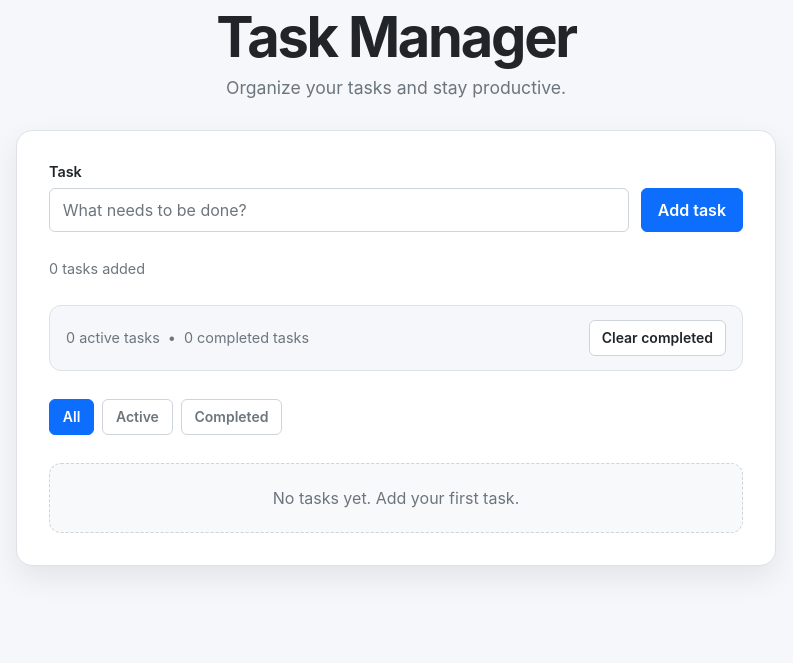
it: App › clears all completed tasks while keeping active tasks
Type "Active task" into the field labelled "Task" at (339, 210), box [49, 188, 629, 232]
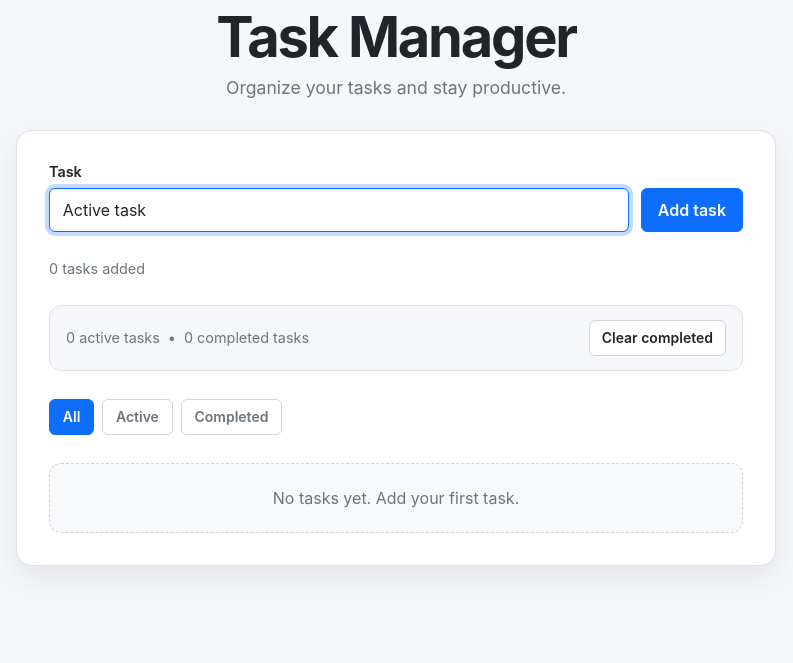
Click the button "Add task" at (692, 210), box [641, 188, 743, 232]
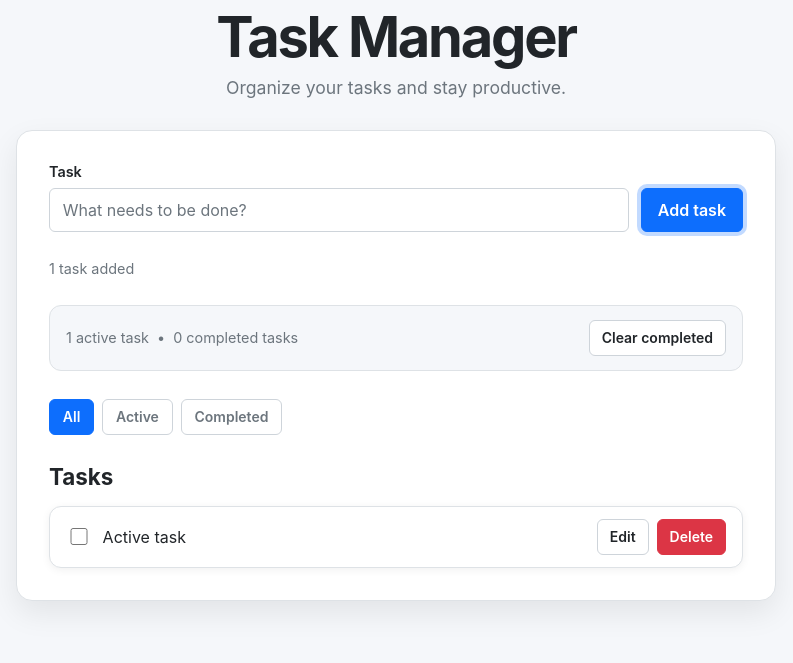
Type "Completed task" into the field labelled "Task" at (339, 210), box [49, 188, 629, 232]
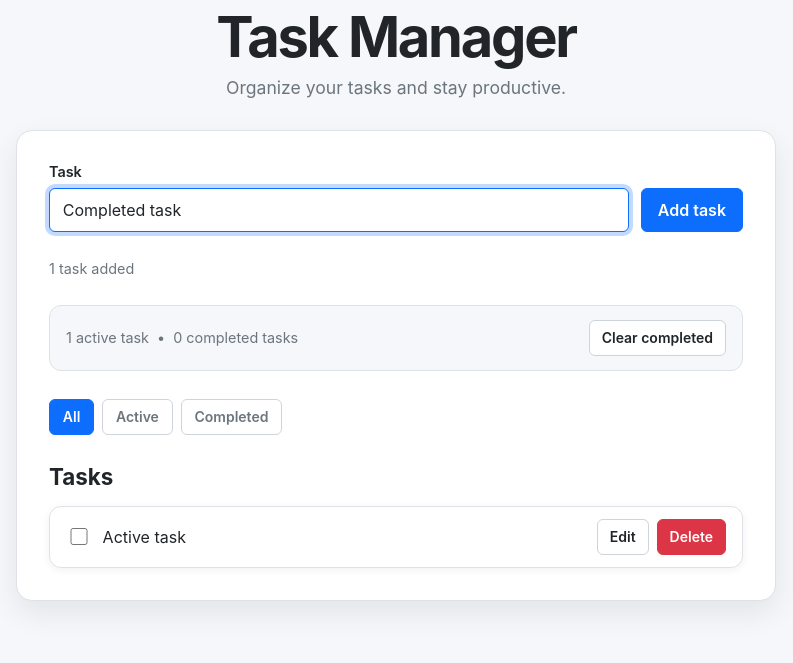
Click the button "Add task" at (692, 210), box [641, 188, 743, 232]
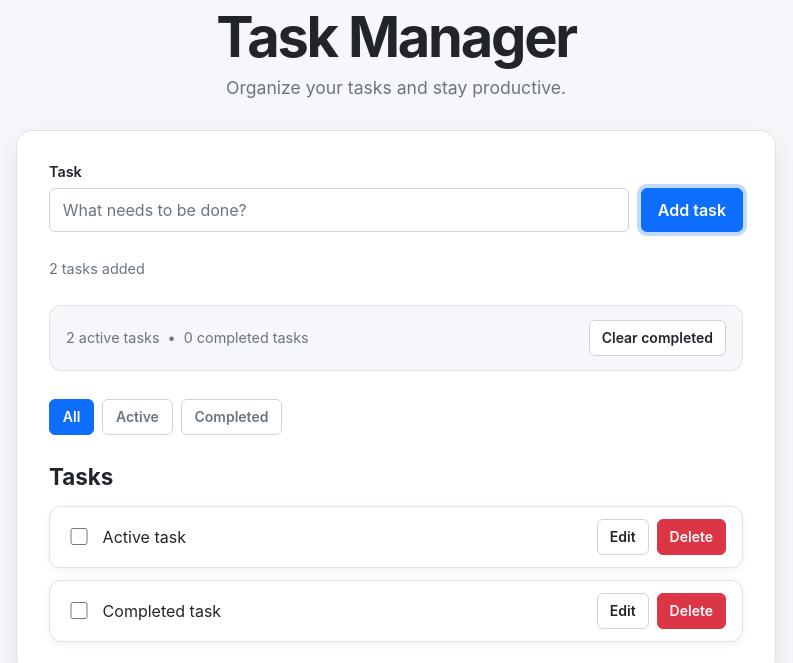
Click the checkbox labelled "Completed task" at (79, 611), box [70, 602, 88, 619]
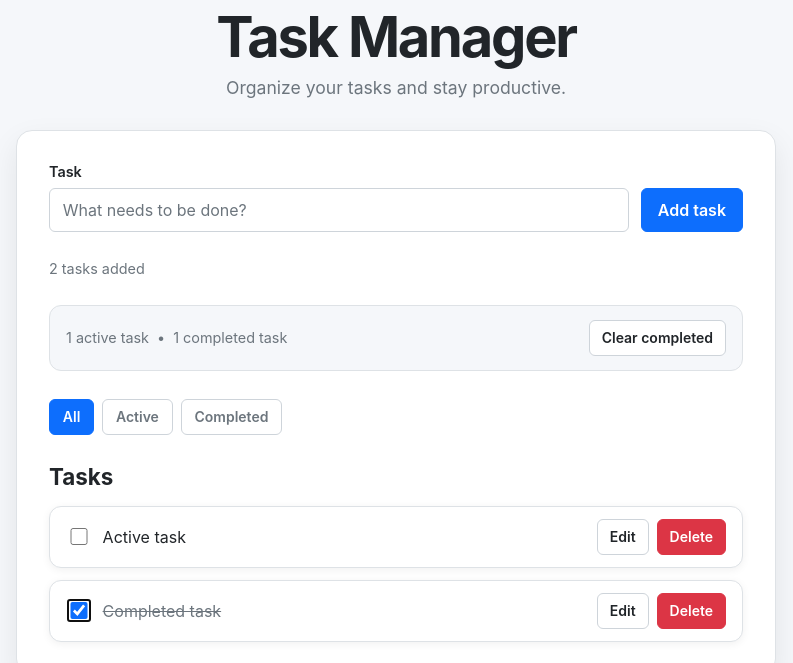
Check: the text "1 active task" is shown, box [66, 329, 149, 346]
Check: the text "1 completed task" is shown, box [173, 329, 287, 346]
Click the button "Clear completed" at (657, 338), box [589, 320, 726, 356]
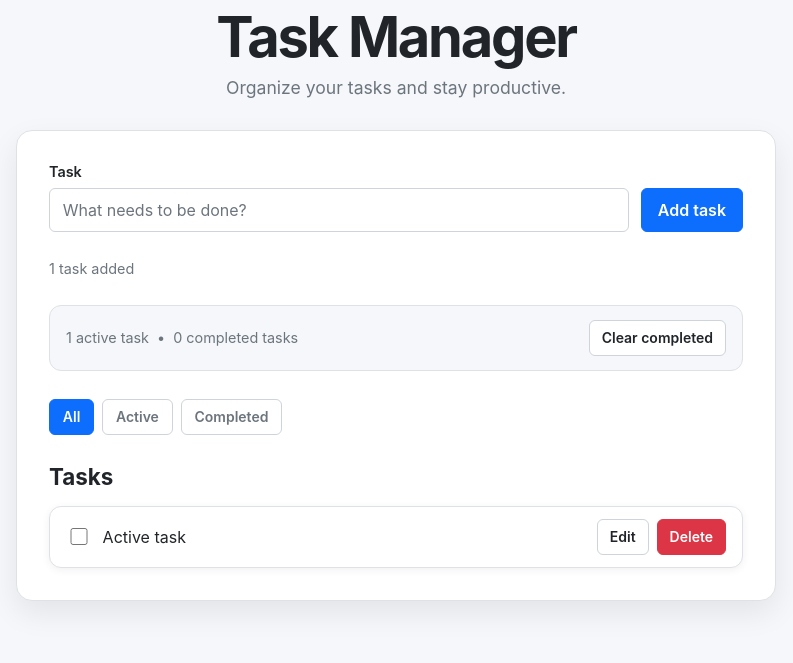
Check: the text "Active task" is shown, box [103, 527, 186, 547]
Check: the text "1 active task" is shown, box [66, 329, 149, 346]
Check: the text "0 completed tasks" is shown, box [173, 329, 298, 346]
